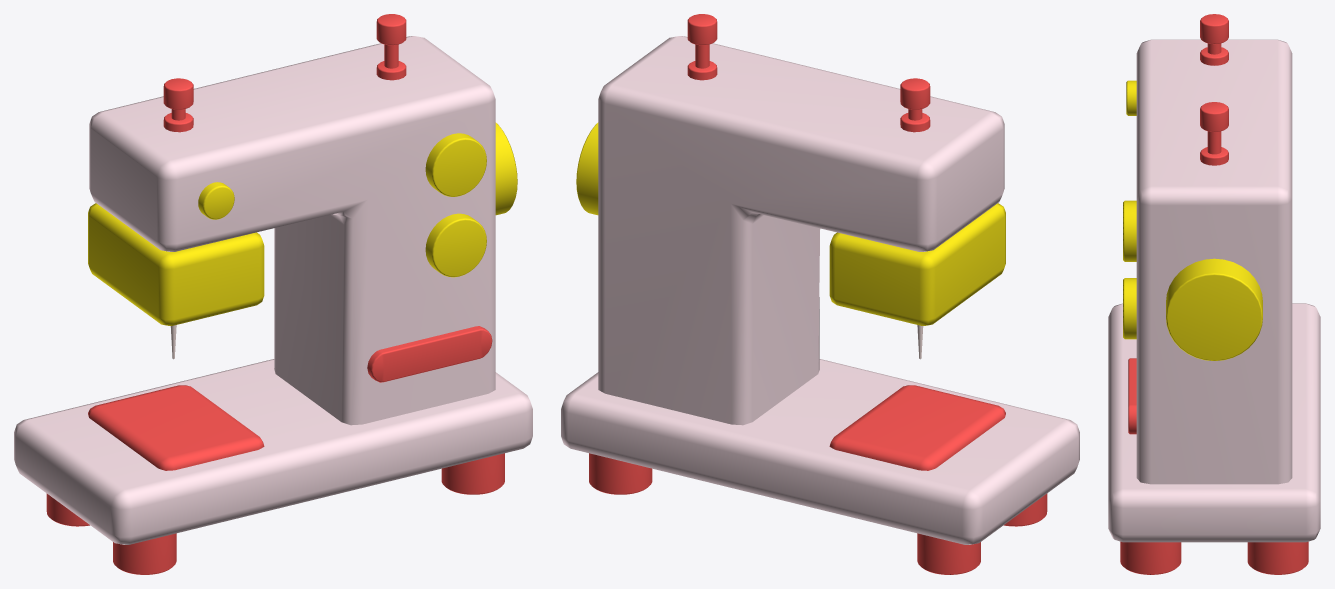
The model's file is Public_19_Big_Sewing_machine_1.glb.
3 renders of one model, left to right at view 1: azimuth 30°, elevation 25°; view 2: azimuth 150°, elevation 25°; view 3: azimuth 270°, elevation 25°, orthographic. The views are drawn at different scales.
Visible parts, largest first — view 1: Public_19_Big_Sewing_machine_1; view 2: Public_19_Big_Sewing_machine_1; view 3: Public_19_Big_Sewing_machine_1.
Boxes of the visible parts, x1,y1,x2,y2 form: Public_19_Big_Sewing_machine_1: (14, 14, 532, 574); Public_19_Big_Sewing_machine_1: (561, 14, 1079, 574); Public_19_Big_Sewing_machine_1: (1108, 14, 1320, 574).
Size of the model in its own units: 3.83 by 3.83 by 1.71.
1 material, 1 textured.
